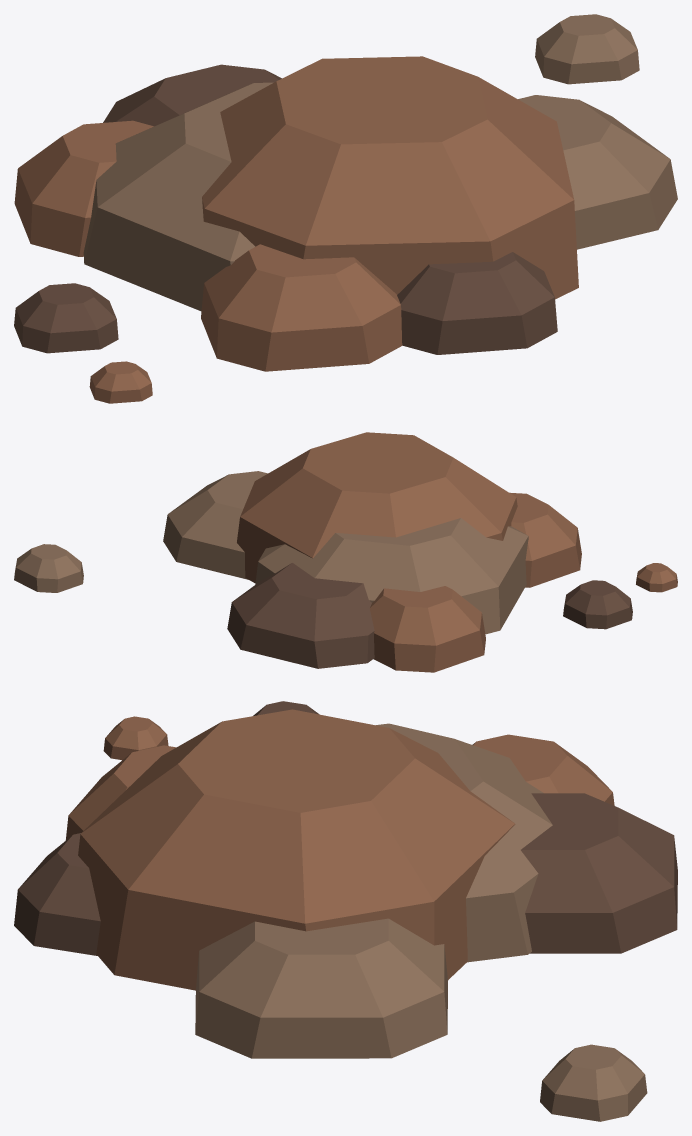
The model's file is Dirt_MOD_01.fbx.
3 views of the same model, one above another, from view 1: azimuth 30°, elevation 25°; view 2: azimuth 150°, elevation 25°; view 3: azimuth 270°, elevation 25° (orthographic). The views are drawn at different scales.
Parts seen in each view (by area): view 1: Dirt_MOD_01; view 2: Dirt_MOD_01; view 3: Dirt_MOD_01.
Part boxes in pixels (x1,y1,x2,y2): Dirt_MOD_01: (14, 14, 677, 403); Dirt_MOD_01: (14, 432, 677, 672); Dirt_MOD_01: (14, 701, 677, 1121).
Bounding box in the file's own units: 4.96 × 0.9577 × 3.57.
